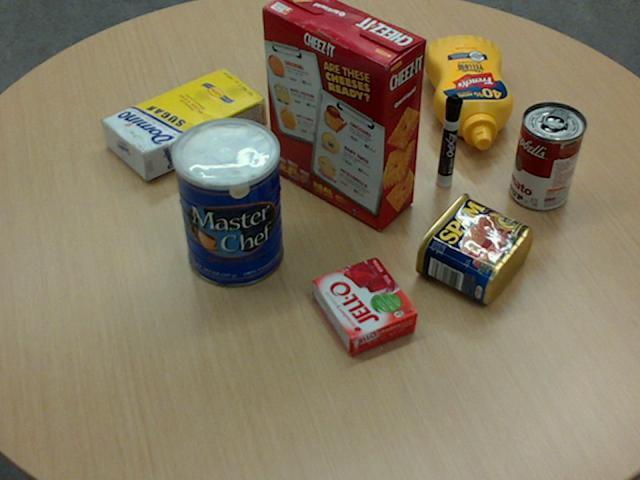cracker_box: (261, 0, 424, 229)
gelatin_box: (313, 256, 418, 354)
large_marker: (436, 94, 462, 186)
master_chef_can: (171, 117, 282, 287)
mug: (317, 33, 394, 125)
mustard_bottle: (423, 35, 512, 149)
potted_meat_can: (414, 191, 531, 303)
sugar_box: (100, 66, 266, 179)
tomato_soup_can: (509, 101, 585, 210)
tuna_fish_can: (354, 24, 418, 80)
